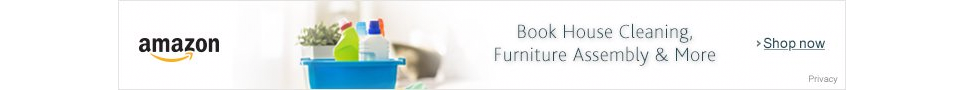fake_button: (736, 27, 840, 63)
